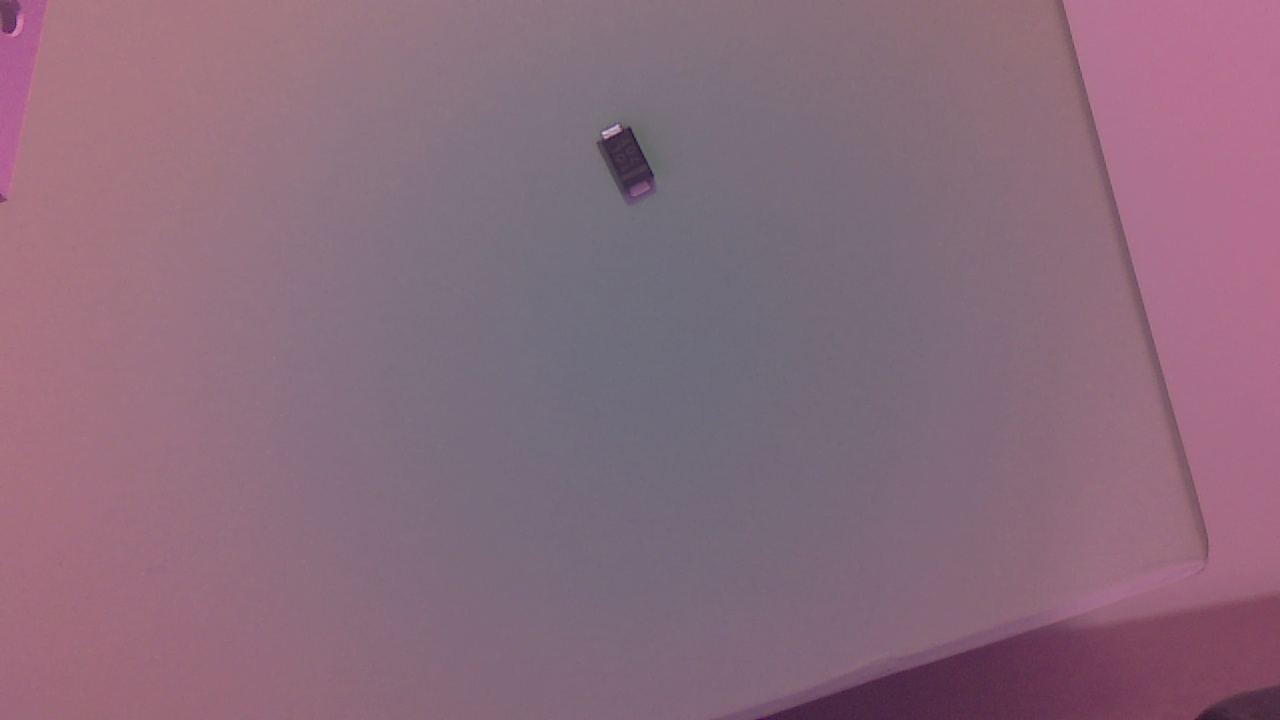Diode: (596, 126, 669, 207)
